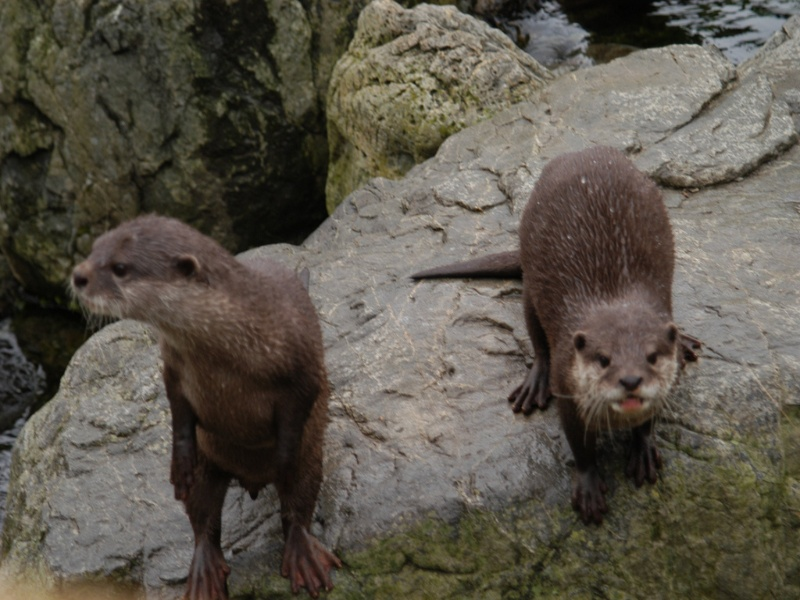minkish: (404, 142, 704, 529), (62, 210, 354, 597)
